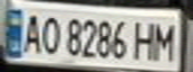2: (78, 15, 100, 58)
6: (109, 17, 133, 61)
8: (60, 14, 84, 57), (96, 16, 115, 60)
A: (18, 9, 45, 54)
H: (130, 18, 160, 61)
M: (151, 17, 181, 61)
O: (39, 11, 63, 55)
